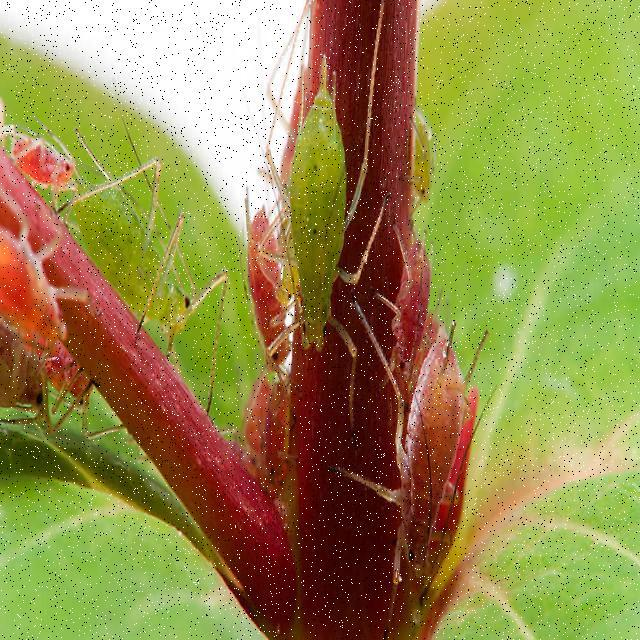Aphids: (247, 9, 376, 434), (399, 91, 443, 229)
